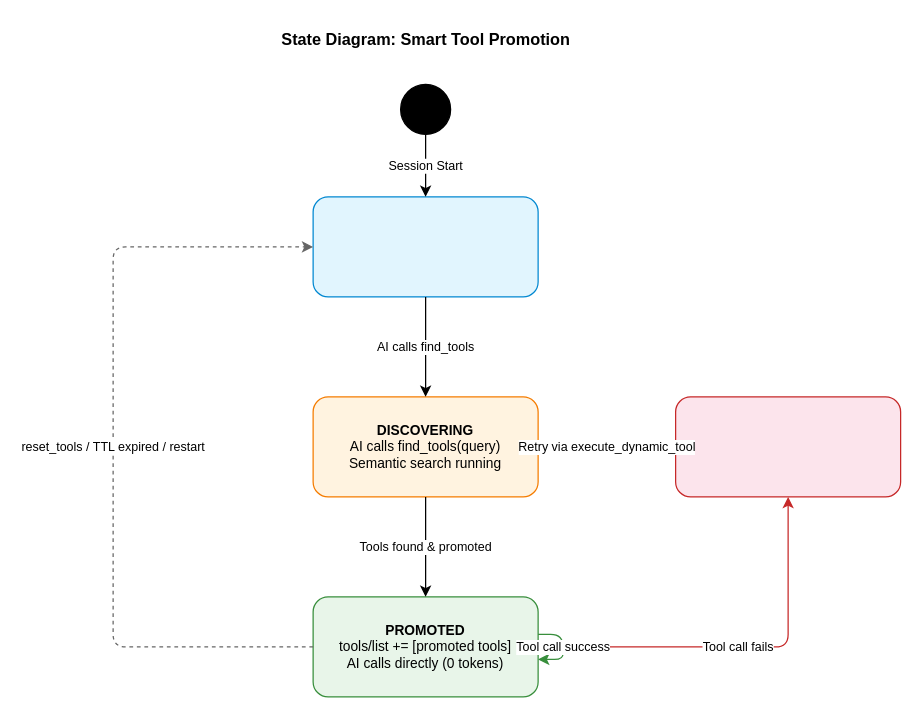
This 923x719 diagram has some shape labels left out. The shapes that lost their labels are listed below. From the top down, each one's centre as x and y in pixels, then its label:
At [425,246]: "MINIMAL tools/list = [find_tools, execute_dynamic_tool, ...]".
At [787,446]: "DEMOTED Tool removed from list Retry via execute_dynamic_tool".
